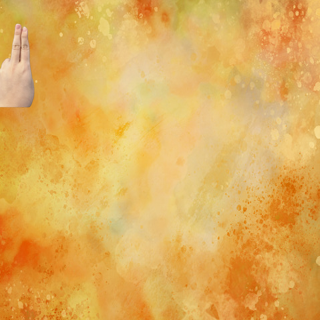DHAVE: (1, 20, 40, 105)
